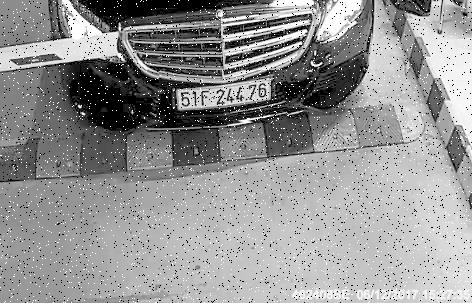License-plate: (161, 72, 290, 124)
